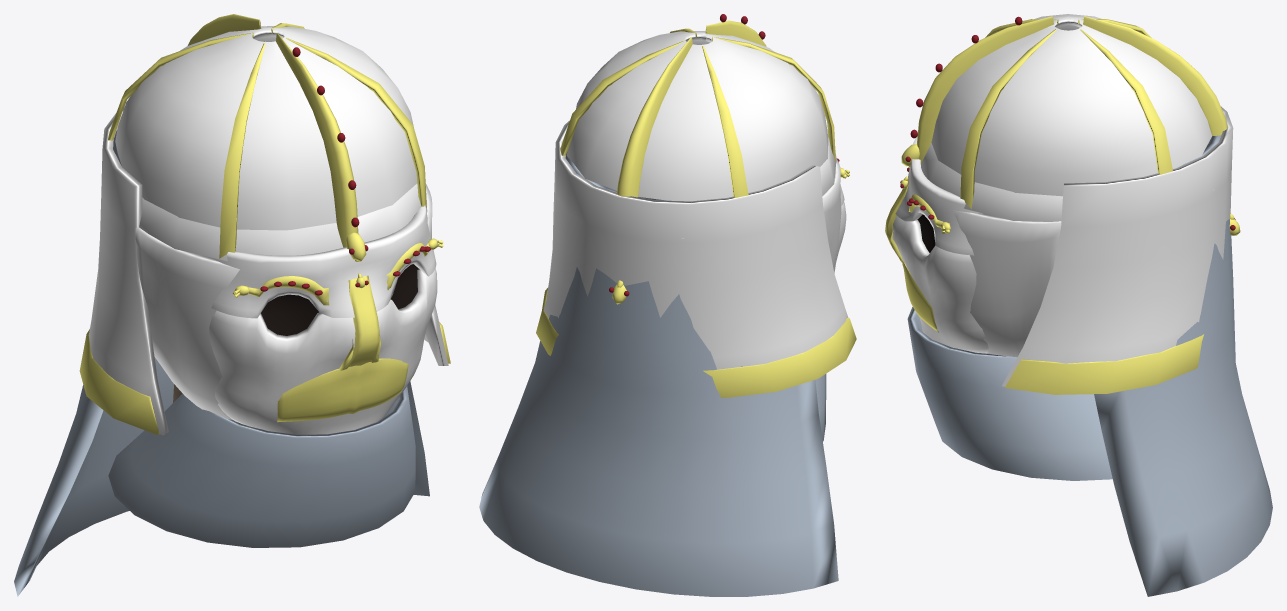
The model's file is helm-huscarl-suttonhoo.glb.
3 renders of one model, left to right at view 1: azimuth 30°, elevation 25°; view 2: azimuth 150°, elevation 25°; view 3: azimuth 270°, elevation 25°, orthographic. The views are drawn at different scales.
Visible parts, largest first — view 1: helm-huscarl-suttonhoo; view 2: helm-huscarl-suttonhoo; view 3: helm-huscarl-suttonhoo.
Boxes of the visible parts, bbox=[...] form: helm-huscarl-suttonhoo: bbox=[14, 14, 450, 596]; helm-huscarl-suttonhoo: bbox=[479, 14, 856, 596]; helm-huscarl-suttonhoo: bbox=[885, 14, 1272, 596].
Bounding box in the file's own units: 0.3753 × 0.481 × 0.3441.
